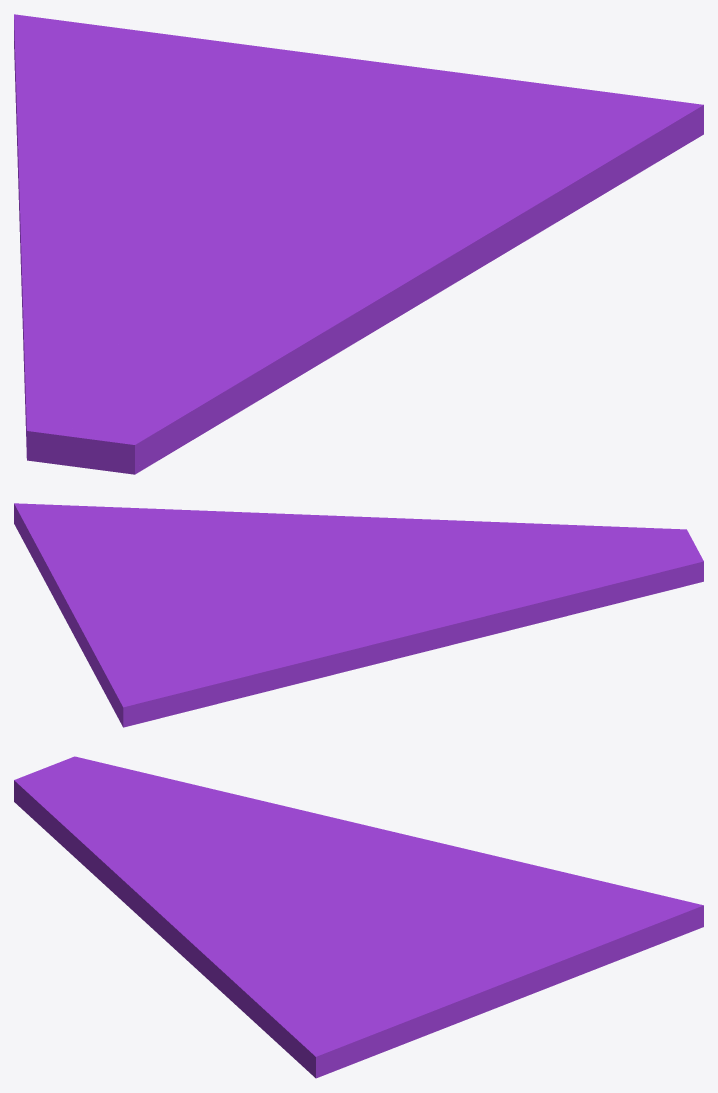
File: StairsStep_6_chunks.fbx
The picture shows the model from 3 angles, top to bottom: view 1: azimuth 30°, elevation 25°; view 2: azimuth 150°, elevation 25°; view 3: azimuth 270°, elevation 25°; orthographic projection. The views are drawn at different scales.
Visible parts, largest first — view 1: StairsStep_6_2, StairsStep_6_0, StairsStep_6_3, StairsStep_6_1; view 2: StairsStep_6_2, StairsStep_6_3, StairsStep_6_0, StairsStep_6_1; view 3: StairsStep_6_2, StairsStep_6_0, StairsStep_6_3, StairsStep_6_1.
Part boxes in pixels (box(x1,y1,x2,y2)): StairsStep_6_2: box(14, 15, 703, 290); StairsStep_6_0: box(68, 245, 453, 466); StairsStep_6_3: box(14, 14, 220, 356); StairsStep_6_1: box(23, 294, 172, 474); StairsStep_6_2: box(14, 503, 375, 727); StairsStep_6_3: box(122, 576, 590, 725); StairsStep_6_0: box(310, 514, 696, 578); StairsStep_6_1: box(471, 549, 703, 617); StairsStep_6_2: box(177, 876, 703, 1078); StairsStep_6_0: box(14, 765, 281, 950); StairsStep_6_3: box(197, 785, 703, 914); StairsStep_6_1: box(14, 756, 235, 837).
Bounding box in the file's own units: 534 × 17.94 × 518.
